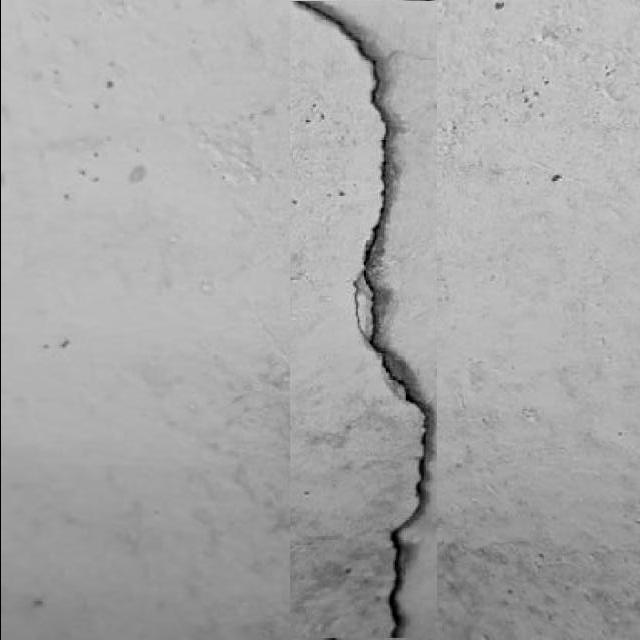crack: (289, 0, 444, 639), (291, 24, 318, 630)
